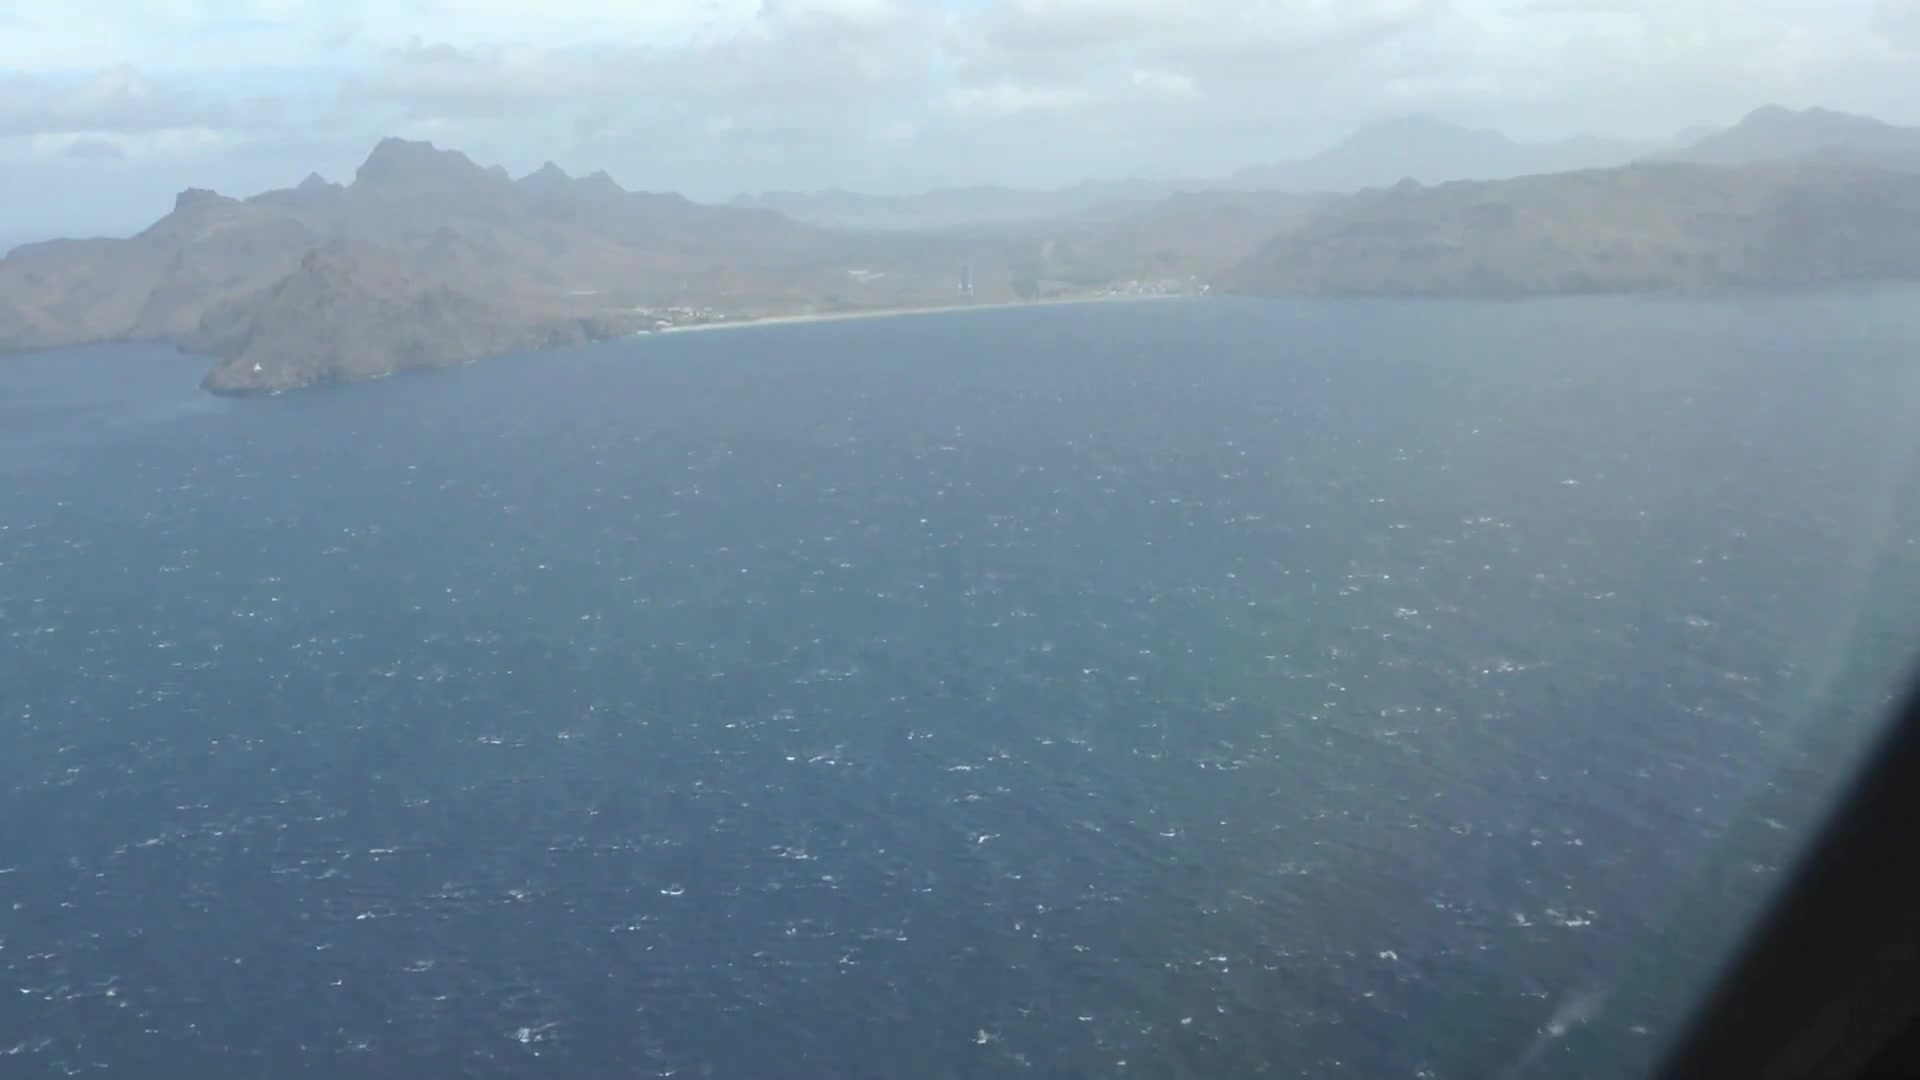runway: (956, 251, 975, 301)
